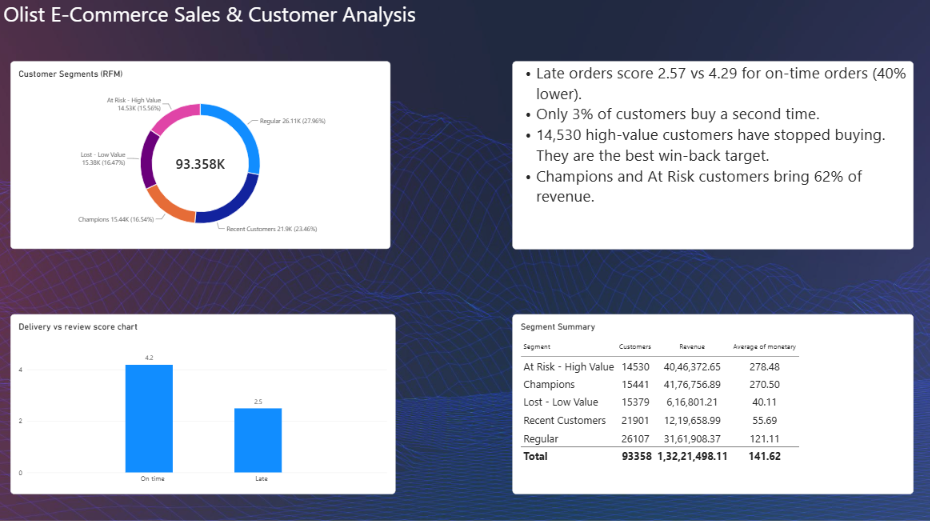

Layout of this report page (visuals, bound fields, positions):
{"tool":"powerbi","page":{"name":"Page 2","canvas":[1920,1080],"ordinal":1},"visuals":[{"type":"textbox","box":[10,0,850,58],"z":0},{"type":"clusteredColumnChart","title":"Delivery vs review score chart","fields":{"Category":["dashboard_data.delivery_status"],"Y":["dashboard_data.Avg Review Score"]},"box":[24.7,648.4,792.5,370.5],"z":1000},{"type":"donutChart","title":"Customer Segments (RFM)","fields":{"Category":["rfm_segaments.segment"],"Y":["Count(rfm_segaments.customer_unique_id)"]},"box":[24.7,127.6,782,386],"z":2000},{"type":"tableEx","title":"Segment Summary","fields":{"Values":["rfm_segments.segment","rfm_segments.customer_unique_id","Sum(rfm_segments.monetary)","rfm_segments.monetary"]},"box":[1058,648.4,825.4,370.5],"z":3000},{"type":"textbox","box":[1058,127.6,825.4,387],"z":5001}]}

Visuals, with their boxes in screenshot pixels (x1, y1, x2, y2), scaled from the page's 1920x1080 canvas onto the 930x521 screenshot:
textbox: box=[5, 0, 417, 28]
"Delivery vs review score chart" clusteredColumnChart: box=[12, 313, 396, 492]
"Customer Segments (RFM)" donutChart: box=[12, 62, 391, 248]
"Segment Summary" tableEx: box=[512, 313, 912, 492]
textbox: box=[512, 62, 912, 248]
